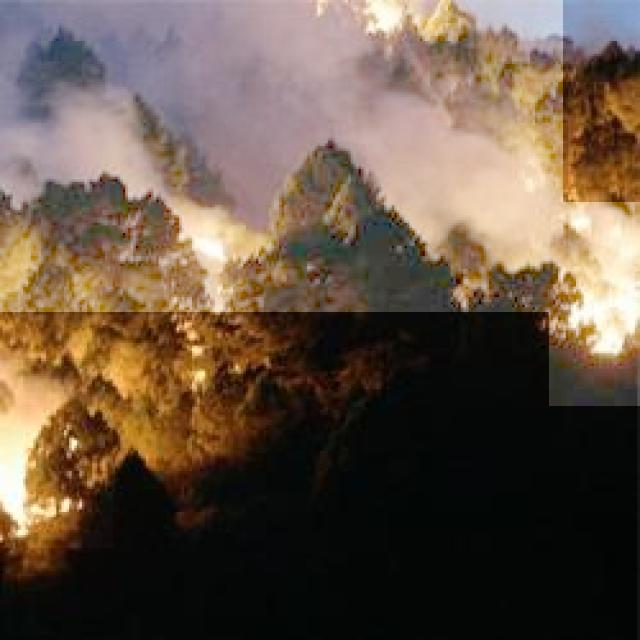Fire: (0, 360, 113, 548), (549, 202, 640, 406)
Smoke: (0, 0, 563, 312)
